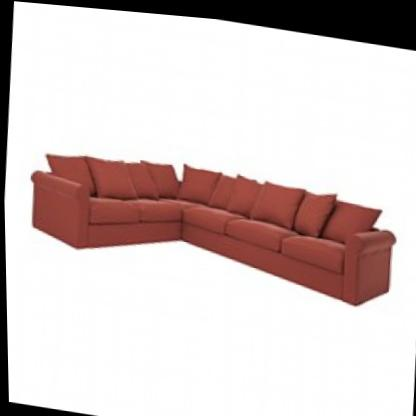Sofa: (14, 111, 402, 323)
